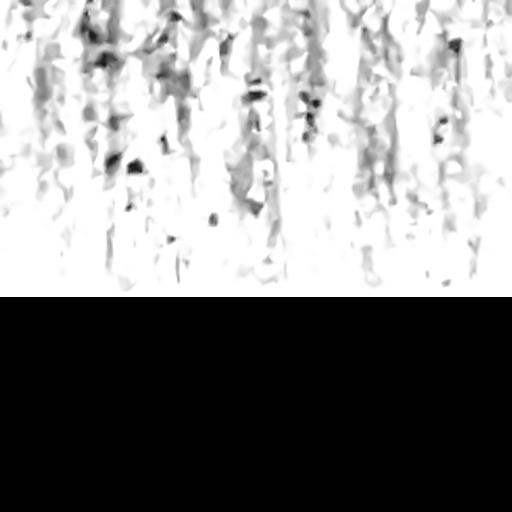egg: (81, 22, 99, 42), (242, 89, 266, 102), (105, 152, 120, 172), (127, 158, 142, 173)
